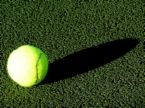tennis ball: (6, 44, 50, 87)
